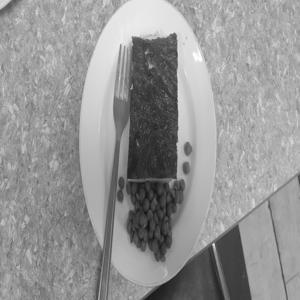casserole: (99, 23, 195, 252)
